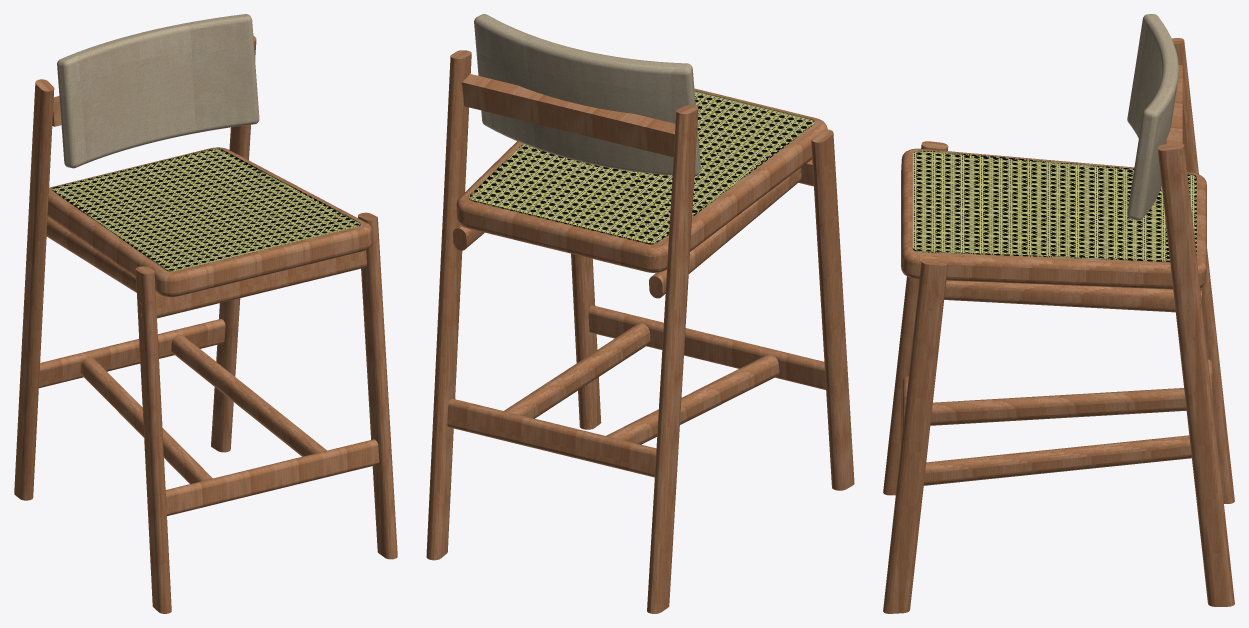
File: origami-banqueta.glb
3 renders of one model, left to right at view 1: azimuth 30°, elevation 25°; view 2: azimuth 150°, elevation 25°; view 3: azimuth 270°, elevation 25°, orthographic. The views are drawn at different scales.
Visible parts, largest first — view 1: Geom3D_pernas, Geom3D, Geom3D_travas (×2), Geom3D_tela, Geom3D_assento; view 2: Geom3D_pernas, Geom3D_travas (×2), Geom3D_tela, Geom3D, Geom3D_assento; view 3: Geom3D_pernas, Geom3D_tela, Geom3D_travas (×2), Geom3D_assento, Geom3D.
Part boxes in pixels (bbox=[...]): Geom3D_pernas: bbox=[14, 35, 397, 613]; Geom3D: bbox=[57, 14, 259, 168]; Geom3D_travas (×2): bbox=[39, 96, 379, 515]; Geom3D_tela: bbox=[52, 148, 360, 271]; Geom3D_assento: bbox=[47, 147, 372, 297]; Geom3D_pernas: bbox=[426, 50, 854, 613]; Geom3D_travas (×2): bbox=[447, 74, 825, 477]; Geom3D_tela: bbox=[469, 90, 814, 244]; Geom3D: bbox=[474, 14, 700, 176]; Geom3D_assento: bbox=[456, 88, 827, 272]; Geom3D_pernas: bbox=[883, 38, 1234, 613]; Geom3D_tela: bbox=[912, 150, 1196, 261]; Geom3D_travas (×2): bbox=[901, 65, 1214, 485]; Geom3D_assento: bbox=[901, 148, 1206, 289]; Geom3D: bbox=[1127, 14, 1178, 220].
Size of the model in its own units: 0.493 by 0.9078 by 0.59.
4 materials, 4 textured.
